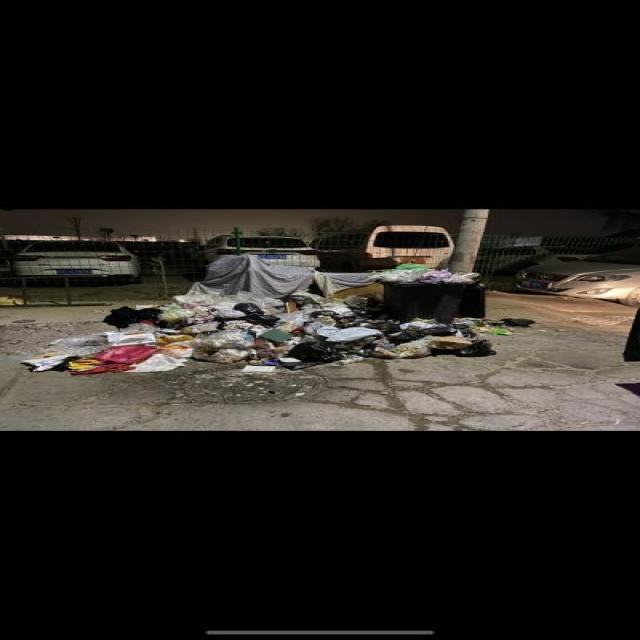garbage: (24, 290, 533, 374)
overflow: (371, 262, 485, 322)
